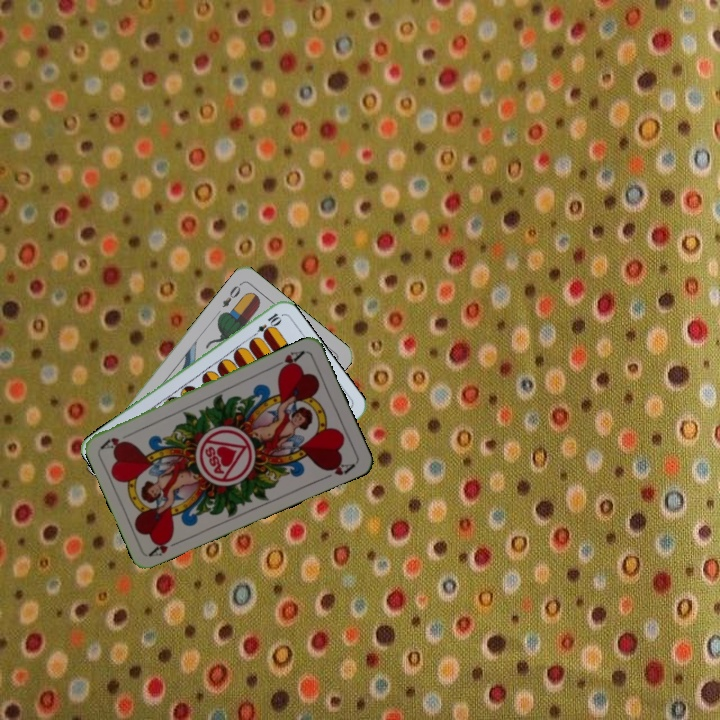E10: (248, 309, 284, 341)
EO: (218, 279, 244, 310)
HA: (269, 346, 307, 374), (146, 532, 185, 559)
